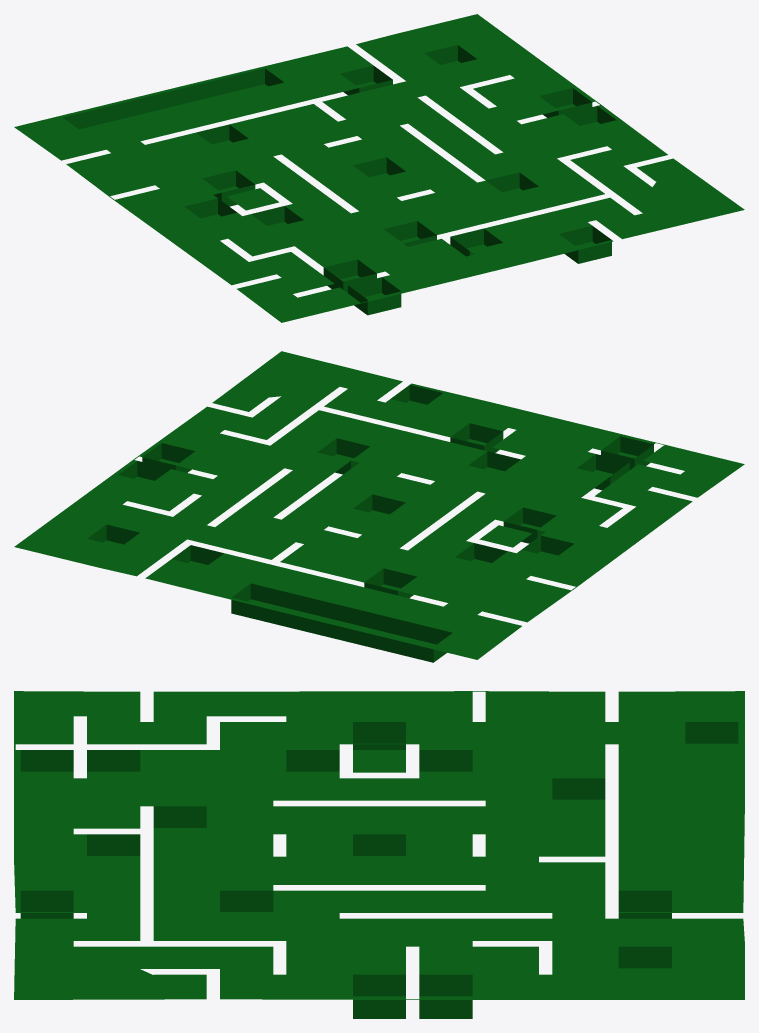
Rendered from FloorTwo_COL_02.FBX.
3 renders of one model, top to bottom at view 1: azimuth 30°, elevation 25°; view 2: azimuth 150°, elevation 25°; view 3: azimuth 270°, elevation 25°, orthographic. The views are drawn at different scales.
Visible parts, largest first — view 1: FloorTwo_COL_02; view 2: FloorTwo_COL_02; view 3: FloorTwo_COL_02.
Boxes of the visible parts, x1,y1,x2,y2 form: FloorTwo_COL_02: (14, 14, 744, 322); FloorTwo_COL_02: (14, 351, 744, 662); FloorTwo_COL_02: (14, 691, 744, 1018).
Size of the model in its own units: 551 by 18 by 551.
